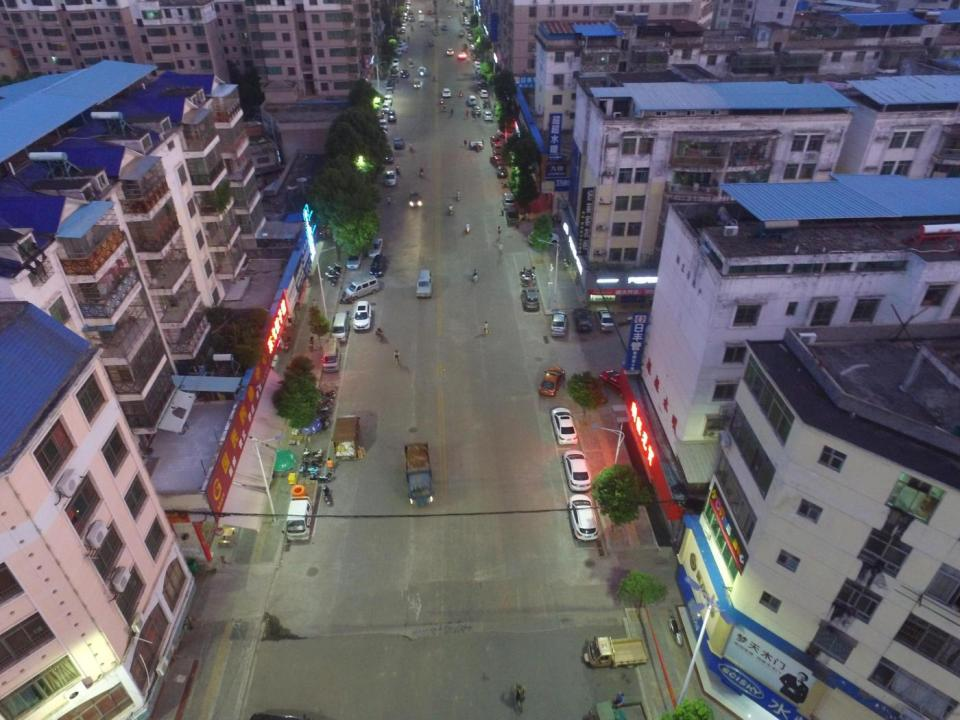car: (568, 494, 599, 541), (562, 450, 592, 491), (599, 369, 636, 398), (550, 407, 578, 445), (538, 366, 566, 397), (352, 300, 372, 332), (594, 307, 616, 331), (573, 308, 593, 332), (550, 311, 568, 337), (521, 287, 540, 311), (346, 247, 364, 271), (370, 254, 386, 278), (366, 237, 383, 258), (496, 126, 518, 139), (505, 205, 519, 224), (409, 189, 422, 208), (384, 170, 396, 187), (381, 149, 394, 164), (496, 165, 508, 178), (492, 154, 504, 166), (490, 135, 502, 147), (379, 102, 391, 114), (466, 94, 478, 106), (393, 137, 404, 150), (386, 109, 397, 122), (378, 118, 387, 133), (492, 144, 504, 154), (383, 94, 393, 106), (483, 110, 493, 121), (472, 104, 481, 116), (389, 66, 398, 78), (386, 78, 394, 91), (390, 57, 400, 67), (475, 66, 485, 76), (417, 66, 426, 76), (479, 89, 488, 98), (442, 88, 451, 97), (413, 77, 420, 88), (400, 69, 408, 78), (472, 61, 481, 68)
truck: (282, 480, 318, 540), (403, 442, 434, 505), (331, 414, 361, 460)
van: (344, 274, 379, 300), (321, 338, 341, 373), (330, 313, 350, 343), (416, 268, 432, 298), (502, 194, 516, 210)
